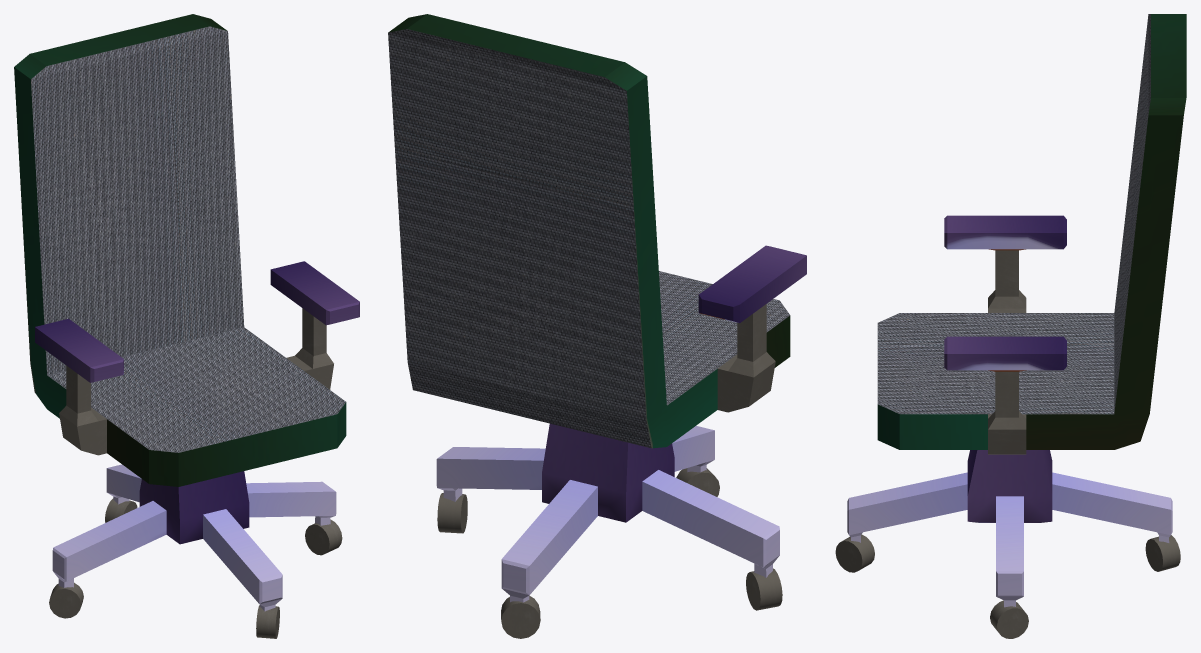
Rendered from chair_lo.fbx.
3 views of the same model, side by side, from view 1: azimuth 30°, elevation 25°; view 2: azimuth 150°, elevation 25°; view 3: azimuth 270°, elevation 25° (orthographic). The views are drawn at different scales.
Visible parts, largest first — view 1: chair, chair_legs, wheel_1, wheel_2, wheel_3; view 2: chair, chair_legs, wheel_4, wheel_2, wheel_1, wheel_3; view 3: chair, chair_legs, wheel_3, wheel_1, wheel_4.
Boxes of the visible parts, left/top/right/bottom form: chair: left=14, top=14, right=359, bottom=486; chair_legs: left=52, top=464, right=336, bottom=611; wheel_1: left=305, top=519, right=342, bottom=555; wheel_2: left=49, top=582, right=83, bottom=618; wheel_3: left=256, top=605, right=279, bottom=638; chair: left=388, top=14, right=806, bottom=448; chair_legs: left=436, top=423, right=779, bottom=602; wheel_4: left=501, top=595, right=540, bottom=638; wheel_2: left=746, top=568, right=782, bottom=610; wheel_1: left=437, top=493, right=467, bottom=533; wheel_3: left=676, top=468, right=719, bottom=496; chair: left=877, top=14, right=1186, bottom=454; chair_legs: left=847, top=450, right=1172, bottom=607; wheel_3: left=835, top=534, right=874, bottom=572; wheel_1: left=990, top=600, right=1028, bottom=638; wheel_4: left=1145, top=535, right=1180, bottom=571.
Bounding box in the file's own units: 59.9 × 97.52 × 60.45.
Materials: 1 (1 with a texture image).
